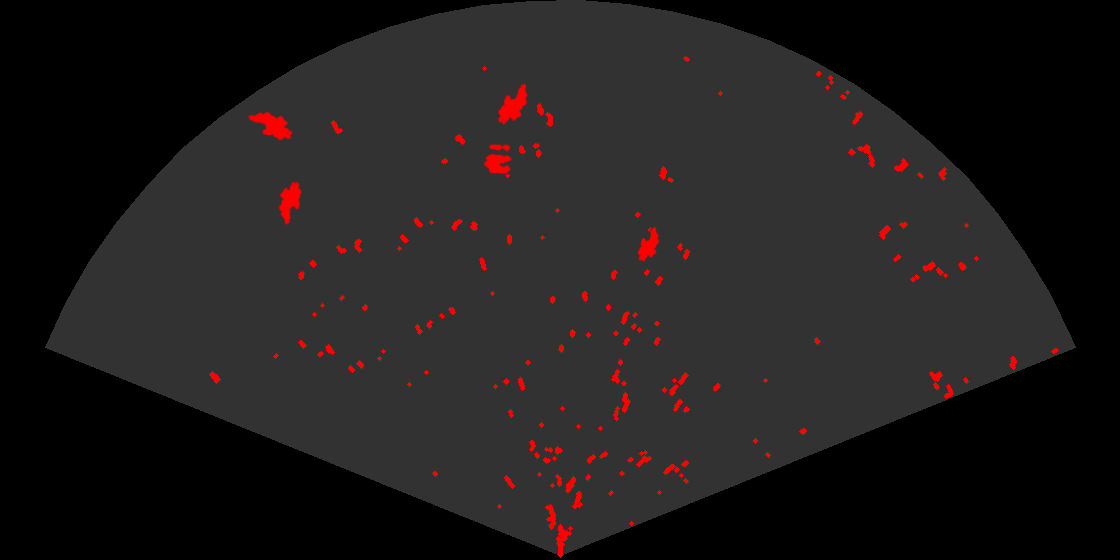AUV: (246, 110, 295, 142), (496, 82, 529, 126), (277, 180, 303, 227), (636, 225, 661, 263)
ball: (482, 142, 514, 176)
